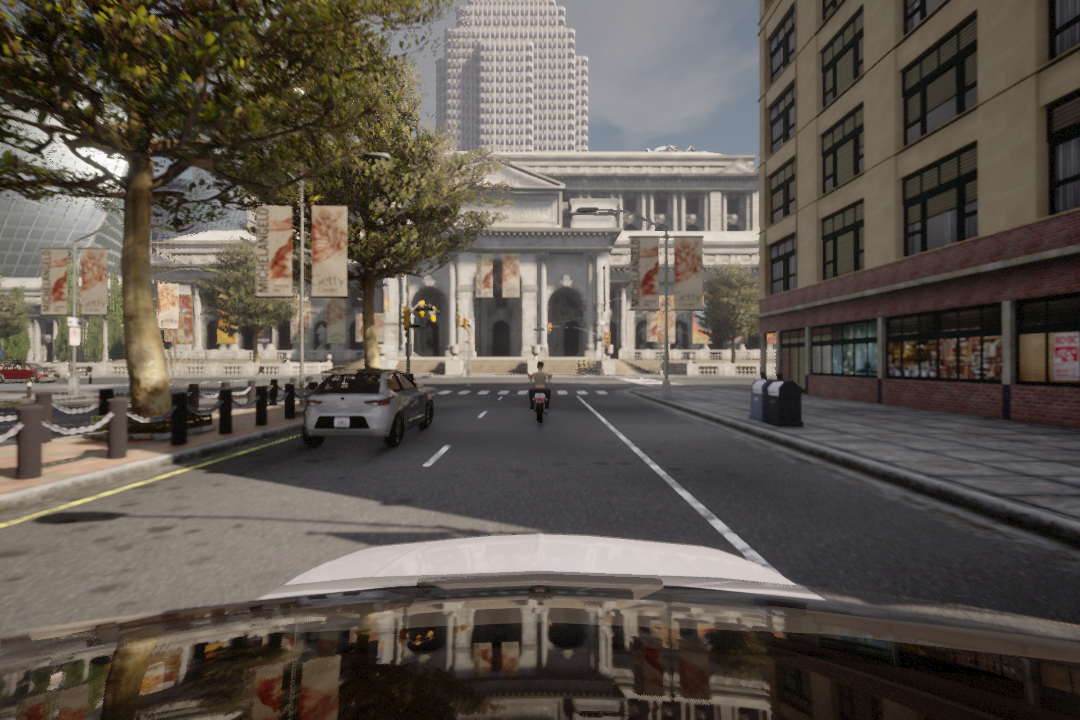walkside: (432, 386, 644, 400)
